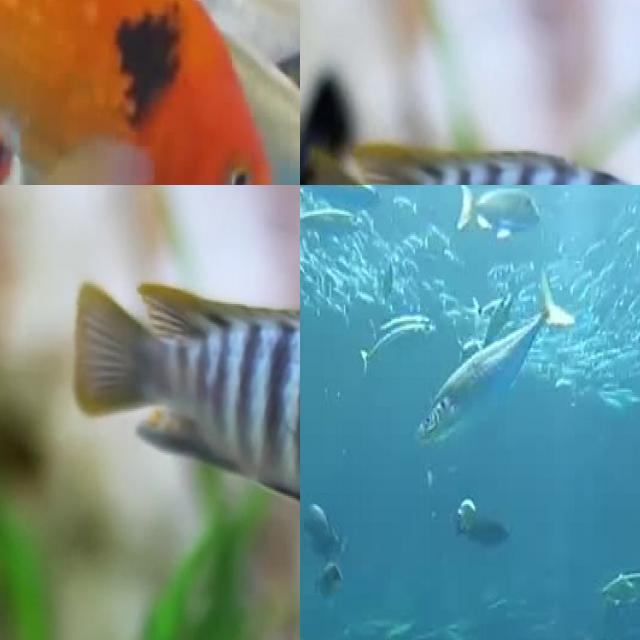fish: (0, 0, 300, 185), (300, 125, 640, 185)
